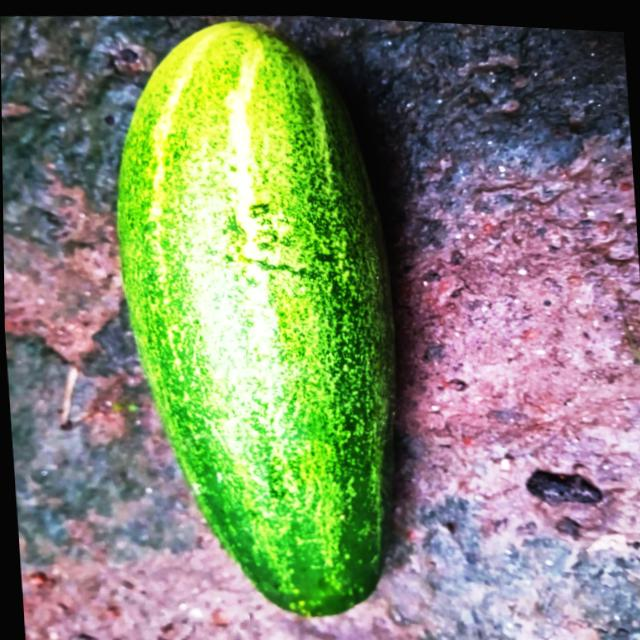Fresh-Cucumber: (100, 4, 416, 631)
